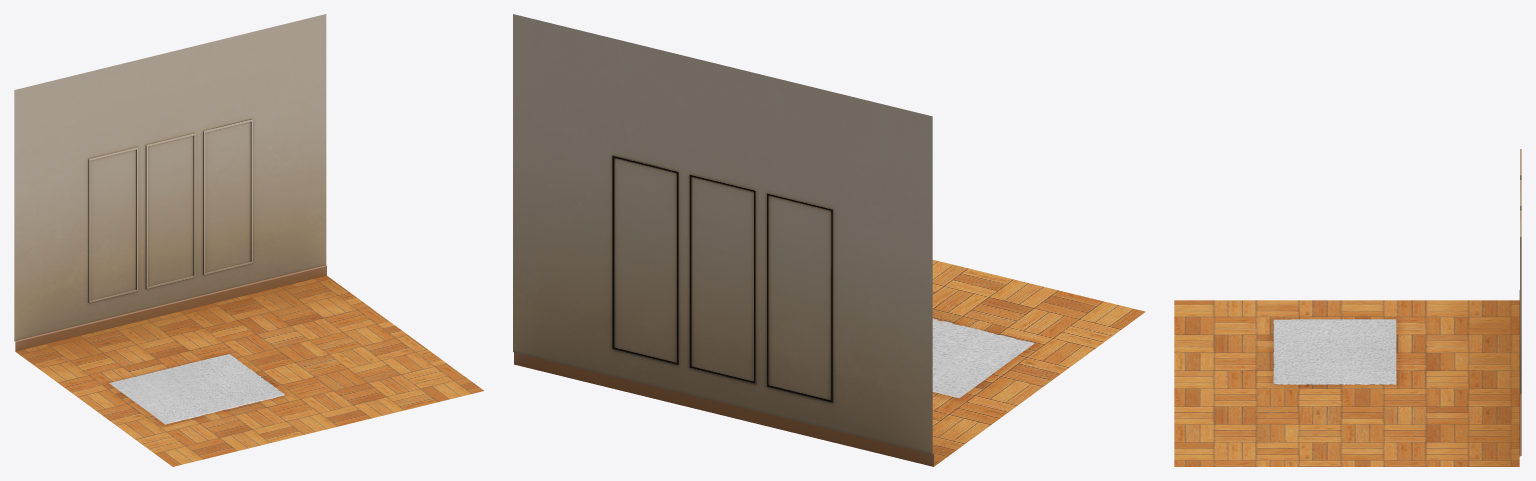
The model's file is room.glb.
The picture shows the model from 3 angles, left to right: view 1: azimuth 30°, elevation 25°; view 2: azimuth 150°, elevation 25°; view 3: azimuth 270°, elevation 25°; orthographic projection. The views are drawn at different scales.
Parts seen in each view (by area): view 1: Room.001, carpet; view 2: Room.001, carpet; view 3: Room.001, carpet.
Part boxes in pixels (x1,y1,x2,y2): Room.001: (14, 14, 483, 466); carpet: (109, 354, 284, 424); Room.001: (513, 14, 1145, 466); carpet: (932, 318, 1034, 398); Room.001: (1174, 149, 1521, 466); carpet: (1273, 319, 1396, 384).
Size of the model in its own units: 6.25 by 5.01 by 5.5.
Materials: 1 (1 with a texture image).
